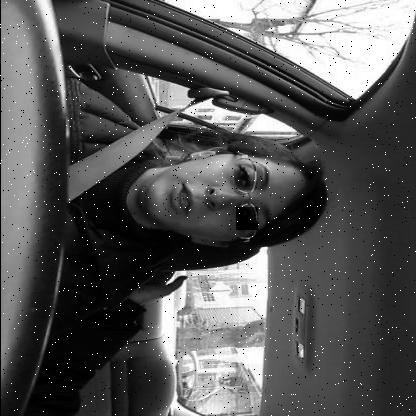seatbelt: (0, 113, 335, 258)
